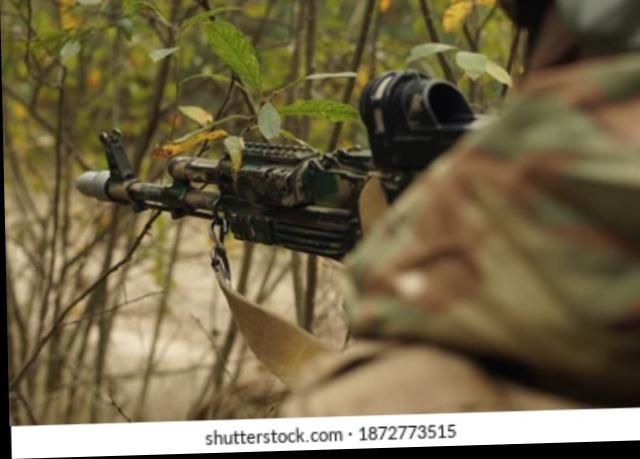other: (320, 37, 640, 414)
